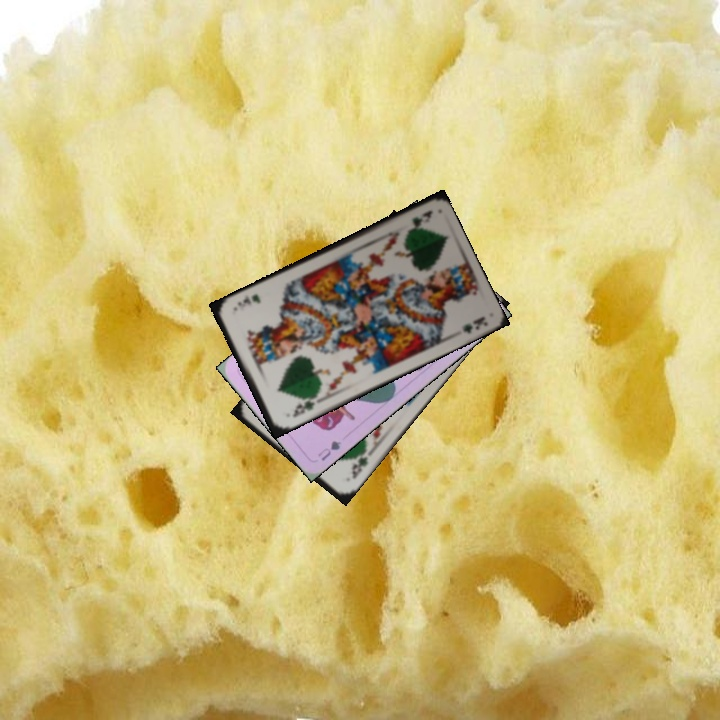GK: (402, 206, 435, 233), (347, 448, 370, 482), (289, 393, 317, 420)
GU: (314, 436, 344, 464)
